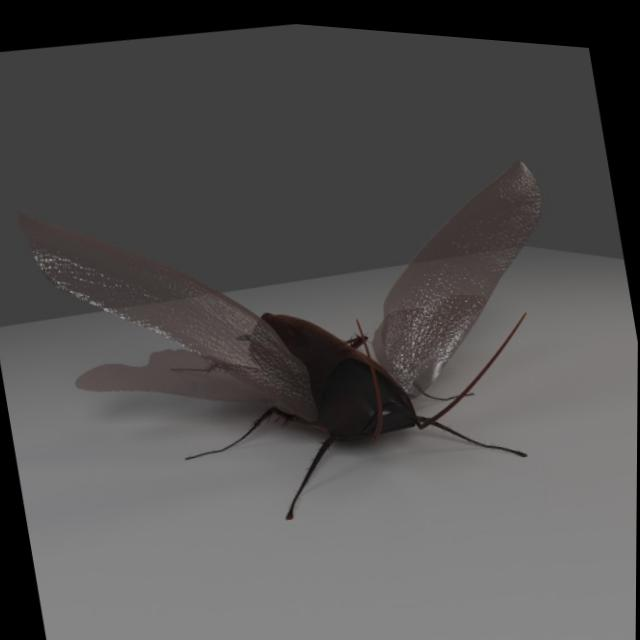Cockroach: (1, 97, 604, 581)
